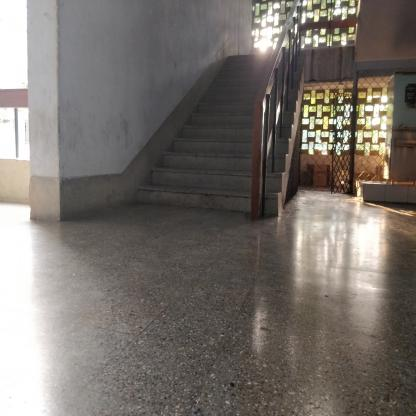stairs: (177, 147, 251, 222)
